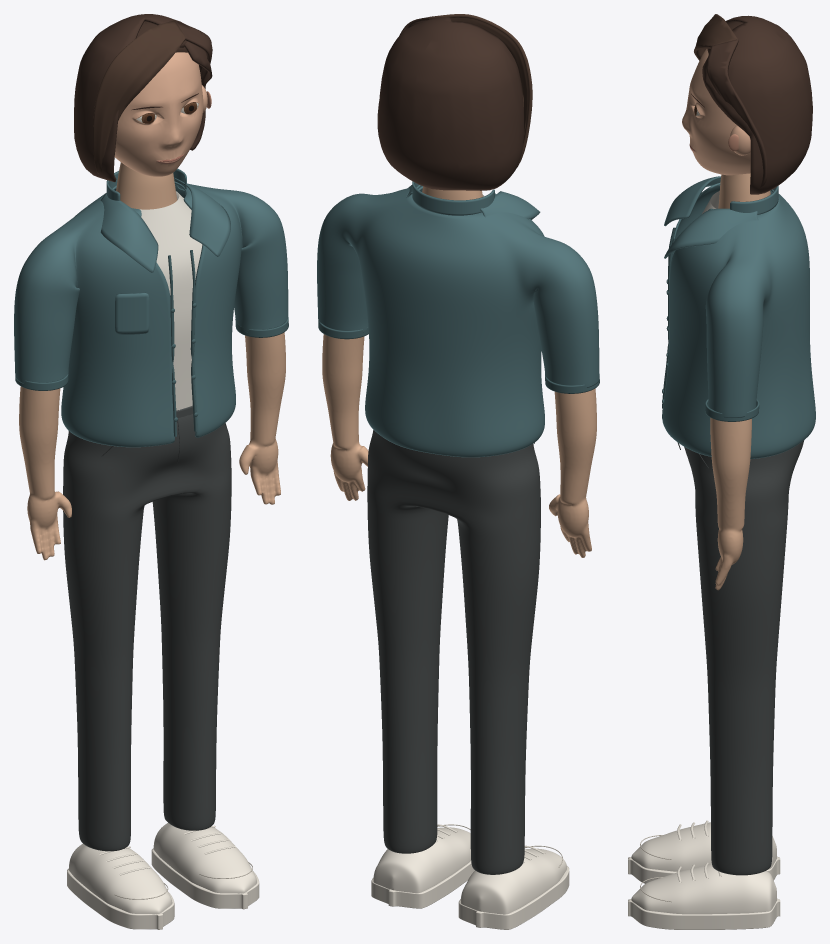
Rendered from female-base-e.glb.
The picture shows the model from 3 angles, left to right: view 1: azimuth 30°, elevation 25°; view 2: azimuth 150°, elevation 25°; view 3: azimuth 270°, elevation 25°; orthographic projection. The views are drawn at different scales.
Visible parts, largest first — view 1: E export 11, E export 29, E export 58, E export 5, E export 44, E export 10, E export 31, E export 52, E export 39, E export 33, E export 38, E export 0 (+7 smaller); view 2: E export 29, E export 11, E export 44, E export 5, E export 10, E export 33, E export 39, E export 21, E export 52, E export 18, E export 15, E export 38; view 3: E export 29, E export 11, E export 44, E export 39, E export 10, E export 58, E export 33, E export 18, E export 59, E export 2, E export 0, E export 38 (+4 smaller).
Boxes of the visible parts, x1,y1,x2,y2 form: E export 11: (63,414,231,851); E export 29: (14,181,288,447); E export 58: (114,52,203,176); E export 5: (19,386,71,560); E export 44: (74,14,212,182); E export 10: (239,332,285,504); E export 31: (140,191,202,410); E export 52: (93,20,185,173); E export 39: (153,823,256,893); E export 33: (68,844,172,914); E export 38: (100,193,158,272); E export 0: (116,161,177,209); E export 29: (317,186,599,457); E export 11: (367,430,540,874); E export 44: (379,17,523,190); E export 5: (549,388,596,557); E export 10: (322,334,368,500); E export 33: (460,848,566,914); E export 39: (373,827,470,893); E export 21: (458,865,569,929); E export 52: (430,14,532,168); E export 18: (371,861,474,908); E export 15: (412,181,494,215); E export 38: (480,191,540,219); E export 29: (662,182,815,459); E export 11: (684,440,804,875); E export 44: (702,15,812,194); E export 39: (631,864,776,914); E export 10: (710,418,751,590); E export 58: (682,49,750,175); E export 33: (631,822,776,871); E export 18: (628,898,780,929); E export 59: (706,39,767,193); E export 2: (664,208,758,258); E export 0: (718,173,770,208); E export 38: (664,176,720,226).
Bounding box in the file's own units: 0.5586 × 1.72 × 0.3352.
